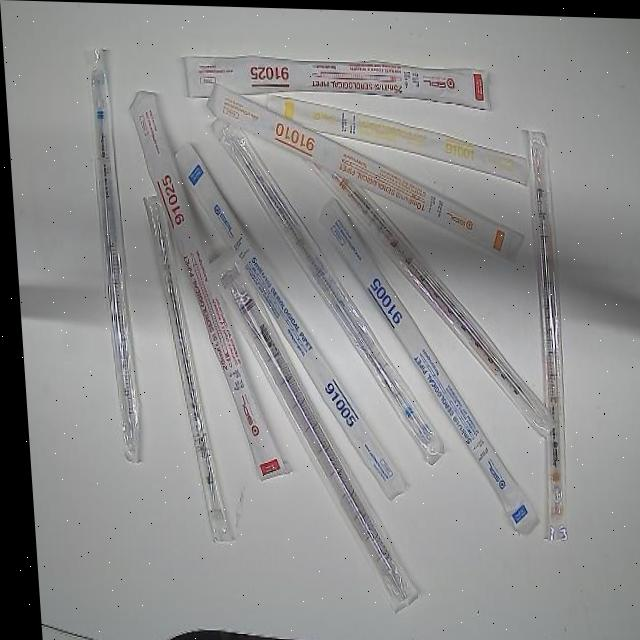Serelogical Pipet 1 mL - Sealed: (263, 91, 529, 187)
Serelogical Pipet 10 mL - Sealed: (300, 140, 554, 435), (204, 82, 525, 260), (516, 121, 572, 544)
Serelogical Pipet 2 mL - Sealed: (137, 185, 232, 547)
Serelogical Pipet 25 mL - Sealed: (125, 85, 288, 482), (177, 49, 494, 109)
Serelogical Pipet 5 mL - Sealed: (169, 138, 405, 502), (208, 112, 441, 466), (313, 190, 537, 540), (85, 45, 145, 472)
Serelogical Pipet 50 mL - Sealed: (206, 246, 416, 617)
